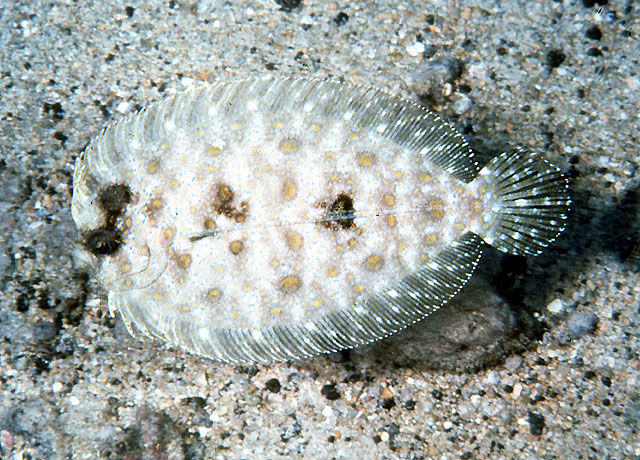fish: (74, 76, 572, 365)
